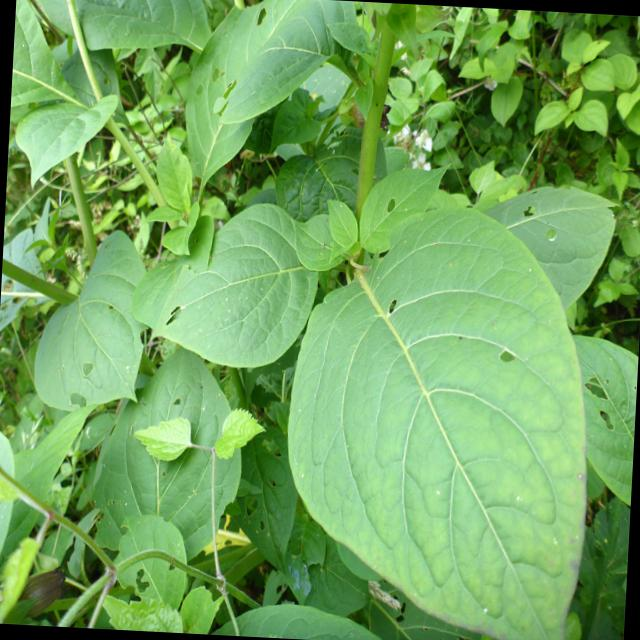Belladonna: (140, 207, 640, 640), (26, 172, 413, 580), (18, 26, 278, 178)
